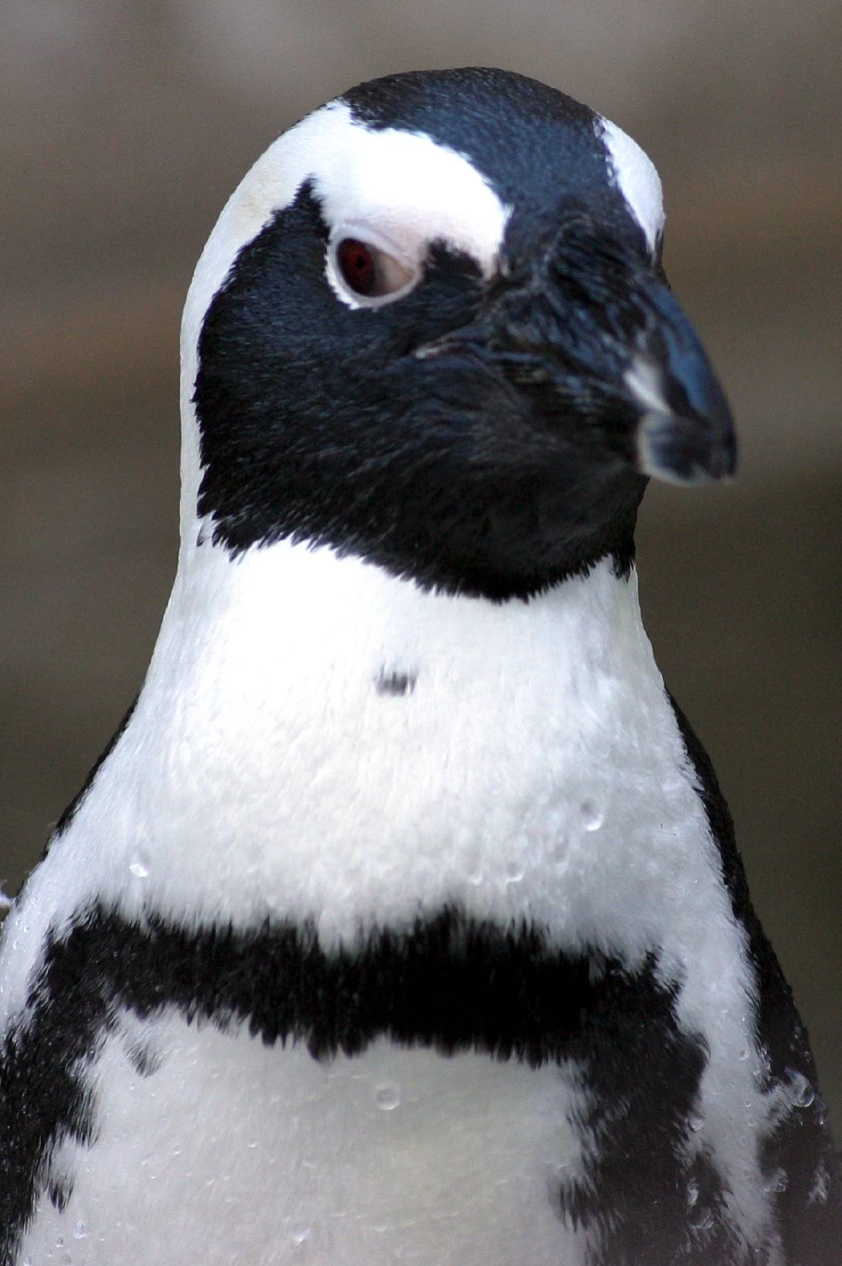penguin: (1, 67, 834, 1266)
